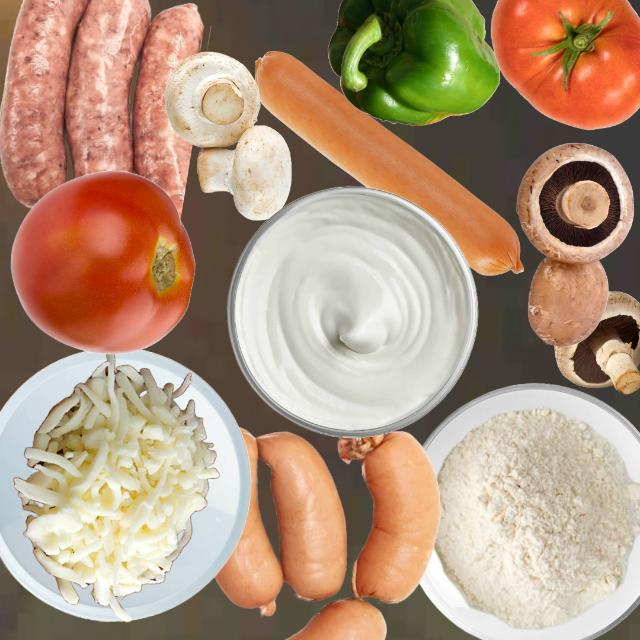Flour: (434, 406, 638, 629)
